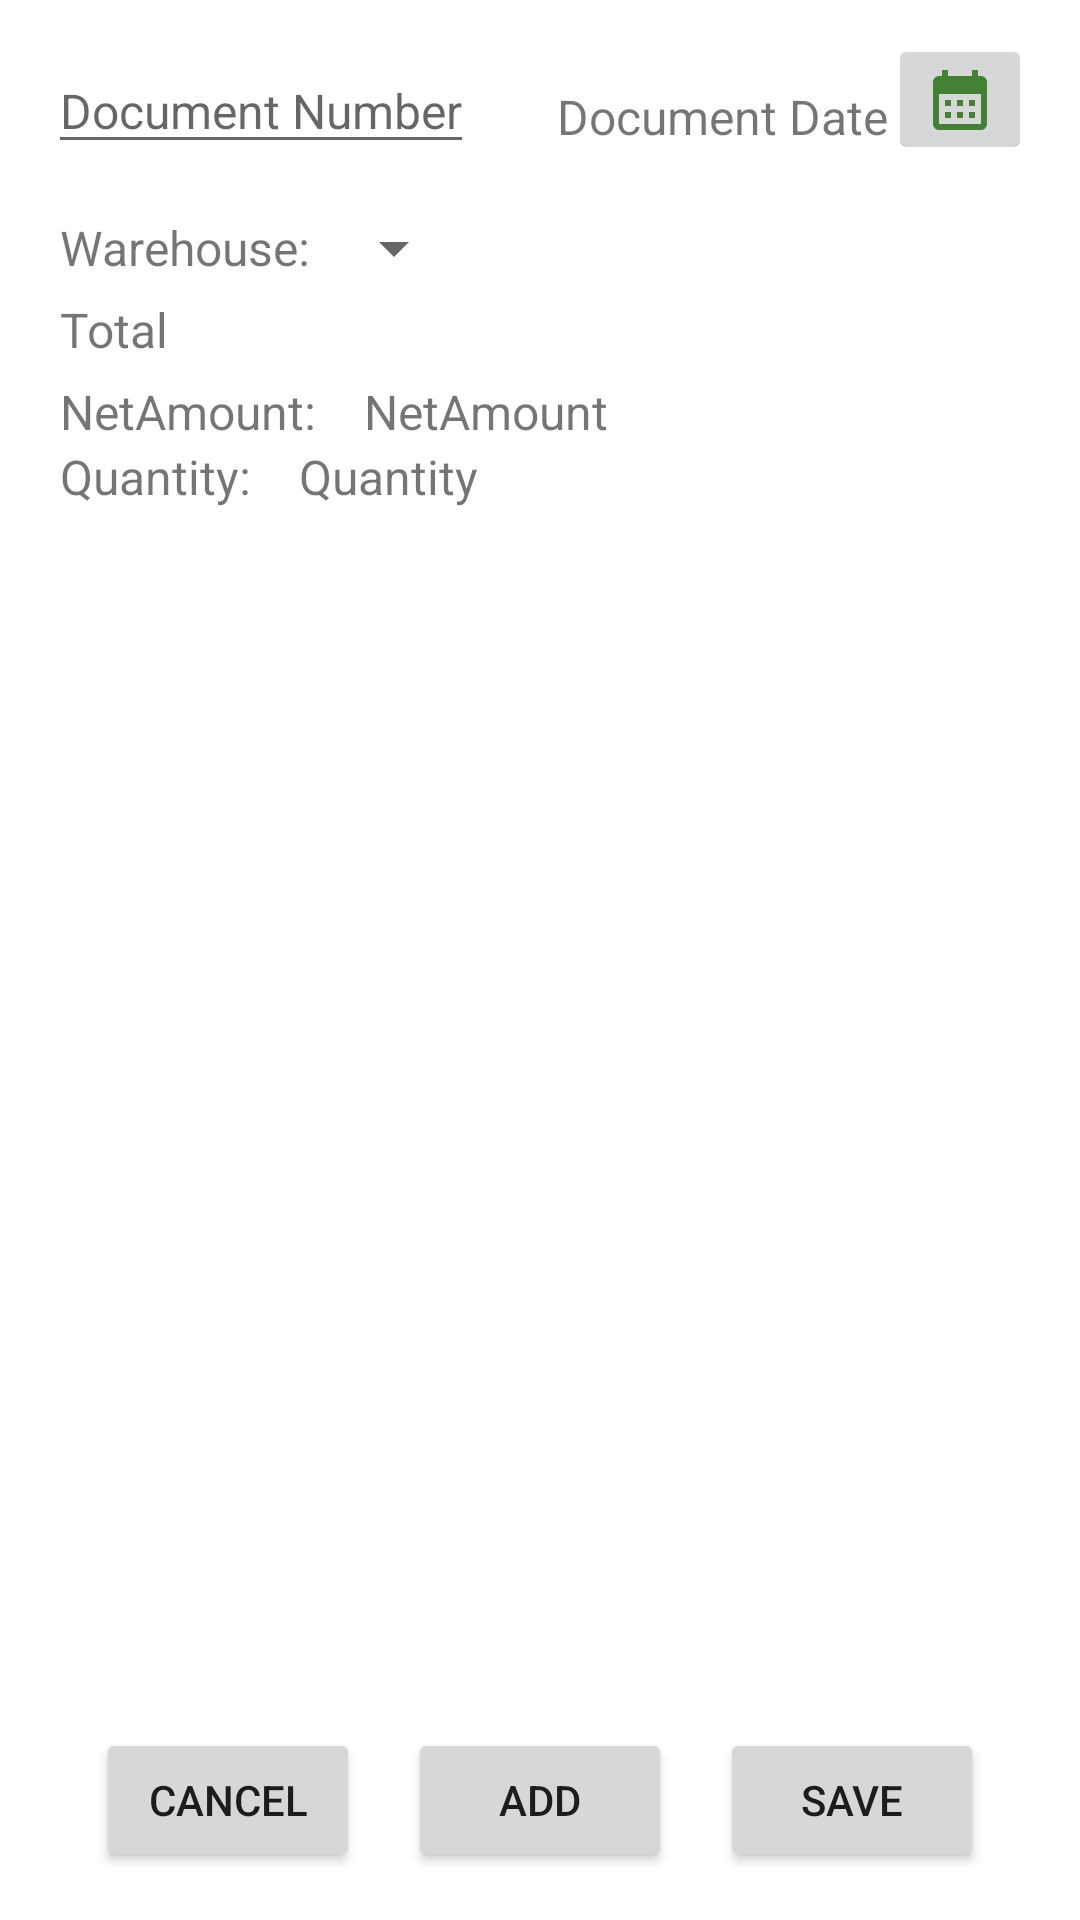

Where to tap for icons on this 1080 × 1920 app screen, as point (x, y):
calendar month: point (960, 99)
